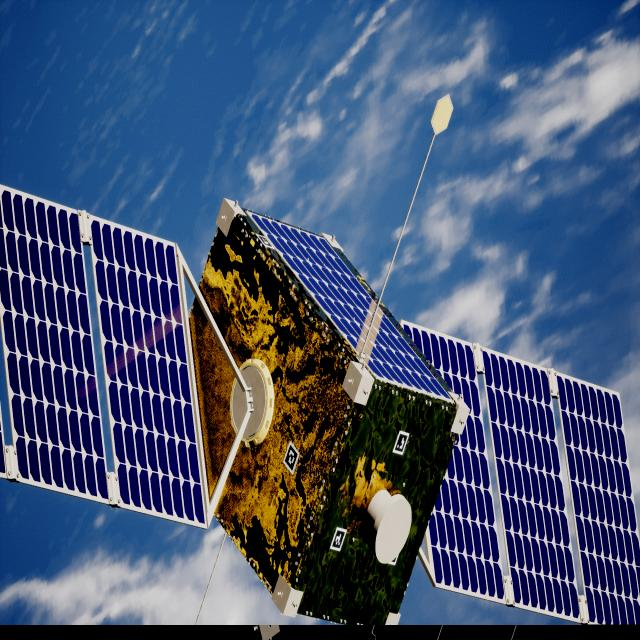satellite: (11, 188, 640, 627)
